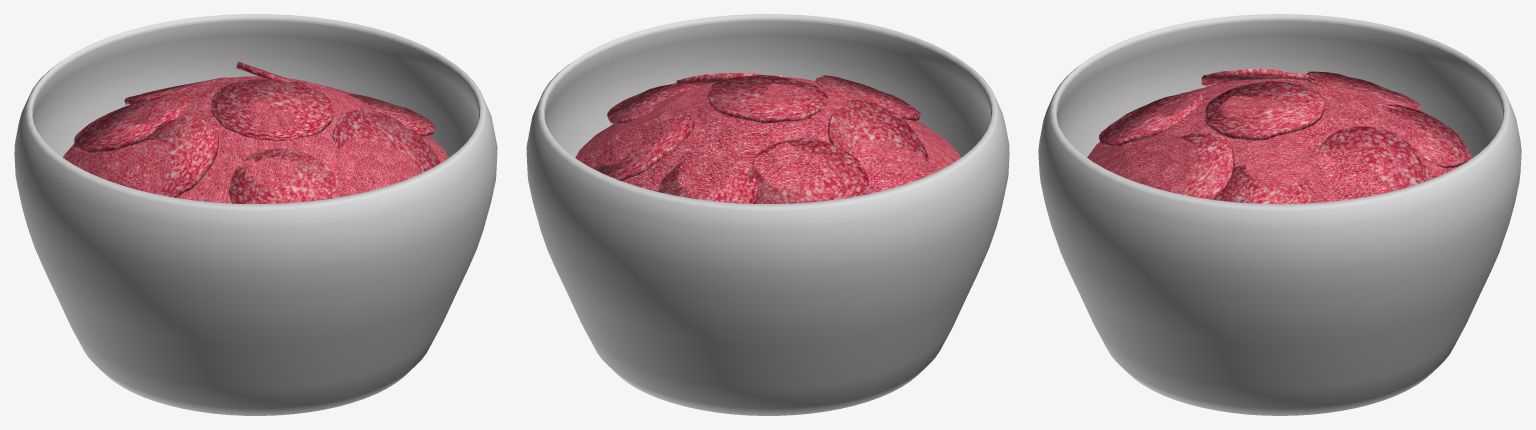
The model's file is pepperonni_bowl.fbx.
The picture shows the model from 3 angles, left to right: view 1: azimuth 30°, elevation 25°; view 2: azimuth 150°, elevation 25°; view 3: azimuth 270°, elevation 25°; orthographic projection.
Visible parts, largest first — view 1: Sphere, Sphere.001, pepperonni.006, pepperonni.001, pepperonni.003, pepperonni.004, pepperonni.007, pepperonni.002, pepperonni.005; view 2: Sphere, Sphere.001, pepperonni.007, pepperonni.006, pepperonni.003, pepperonni, pepperonni.005, pepperonni.002, pepperonni.001, pepperonni.004; view 3: Sphere, Sphere.001, pepperonni.006, pepperonni, pepperonni.004, pepperonni.001, pepperonni.005, pepperonni.002, pepperonni.007, pepperonni.003.
Part boxes in pixels (x1,y1,x2,y2): Sphere: (14,14,497,415); Sphere.001: (63,76,448,203); pepperonni.006: (211,79,333,140); pepperonni.001: (228,148,341,203); pepperonni.003: (132,117,218,197); pepperonni.004: (332,109,440,172); pepperonni.007: (74,93,188,154); pepperonni.002: (348,94,435,136); pepperonni.005: (124,77,226,104); Sphere: (526,14,1009,415); Sphere.001: (575,77,960,203); pepperonni.007: (749,138,869,203); pepperonni.006: (708,74,828,123); pepperonni.003: (827,99,929,164); pepperonni: (593,113,694,181); pepperonni.005: (658,154,758,203); pepperonni.002: (607,82,700,124); pepperonni.001: (815,75,920,121); pepperonni.004: (676,73,785,85); Sphere: (1038,14,1521,415); Sphere.001: (1087,78,1472,202); pepperonni.006: (1205,81,1324,140); pepperonni: (1318,126,1430,191); pepperonni.004: (1178,132,1234,199); pepperonni.001: (1099,92,1203,147); pepperonni.005: (1373,104,1469,168); pepperonni.002: (1215,164,1311,204); pepperonni.007: (1306,71,1421,111); pepperonni.003: (1201,69,1310,86).
Size of the model in its own units: 39.86 by 22.82 by 39.86.
